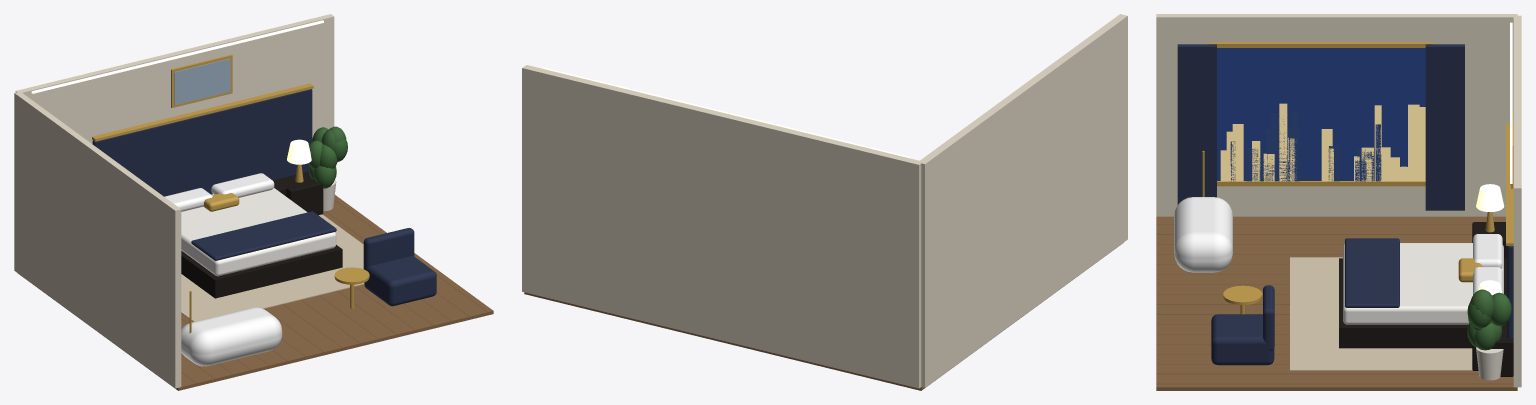
The model's file is deluxe.glb.
3 views of the same model, side by side, from view 1: azimuth 30°, elevation 25°; view 2: azimuth 150°, elevation 25°; view 3: azimuth 270°, elevation 25° (orthographic). The views are drawn at different scales.
Visible parts, largest first — view 1: LuxuryStay deluxe room; view 2: LuxuryStay deluxe room; view 3: LuxuryStay deluxe room.
Boxes of the visible parts, x1=… form: LuxuryStay deluxe room: x1=14, y1=14, x2=493, y2=390; LuxuryStay deluxe room: x1=522, y1=14, x2=1127, y2=390; LuxuryStay deluxe room: x1=1156, y1=14, x2=1521, y2=390.
Bounding box in the file's own units: 5.25 × 2.85 × 4.65.
